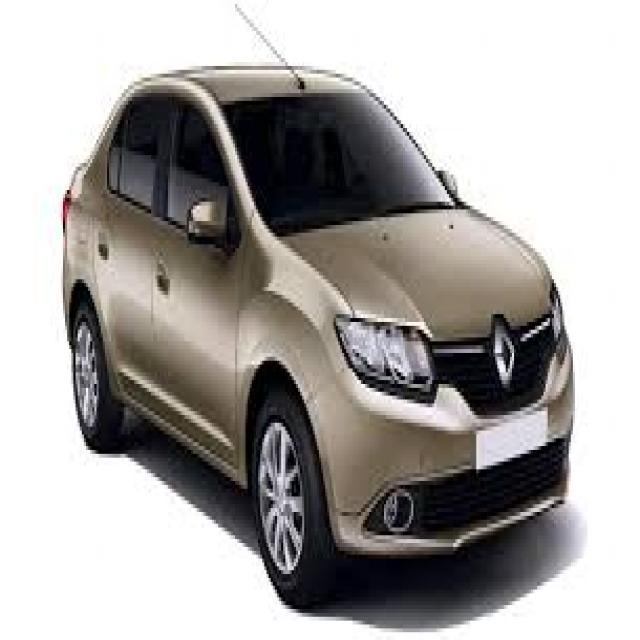Car: (56, 62, 578, 608)
